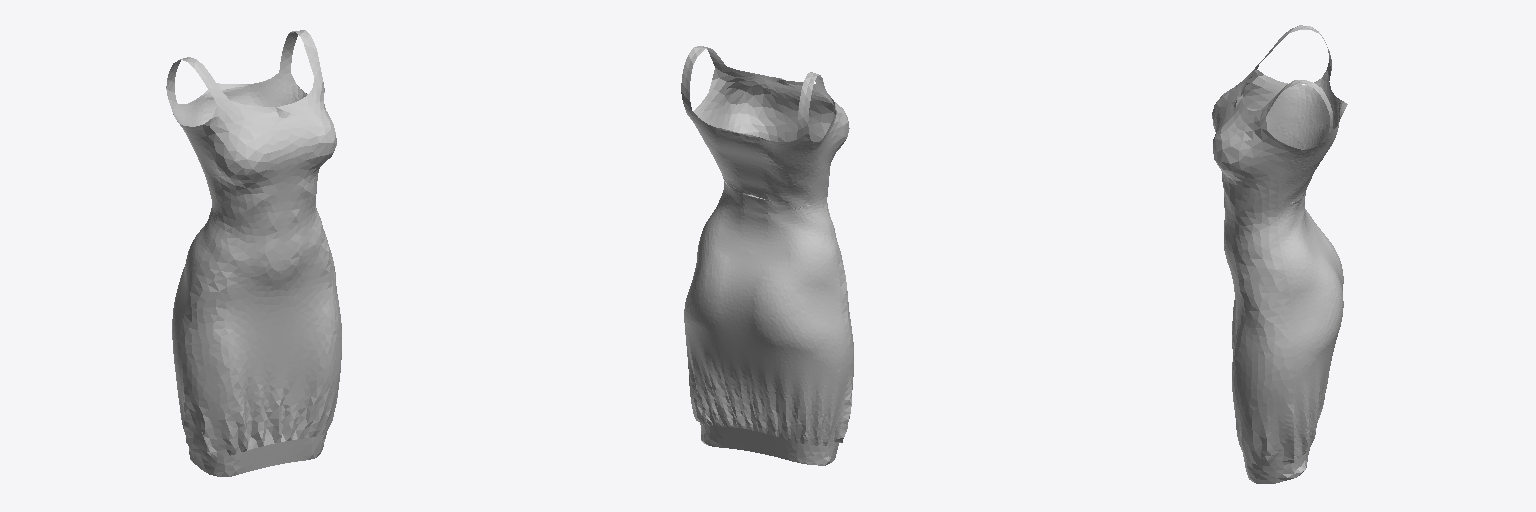
Rendered from dress2.obj.
3 views of the same model, side by side, from view 1: azimuth 30°, elevation 25°; view 2: azimuth 150°, elevation 25°; view 3: azimuth 270°, elevation 25° (orthographic).
Size of the model in its own units: 38.43 by 94.81 by 28.95.